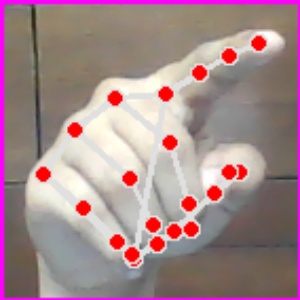Z: (1, 3, 299, 300)
